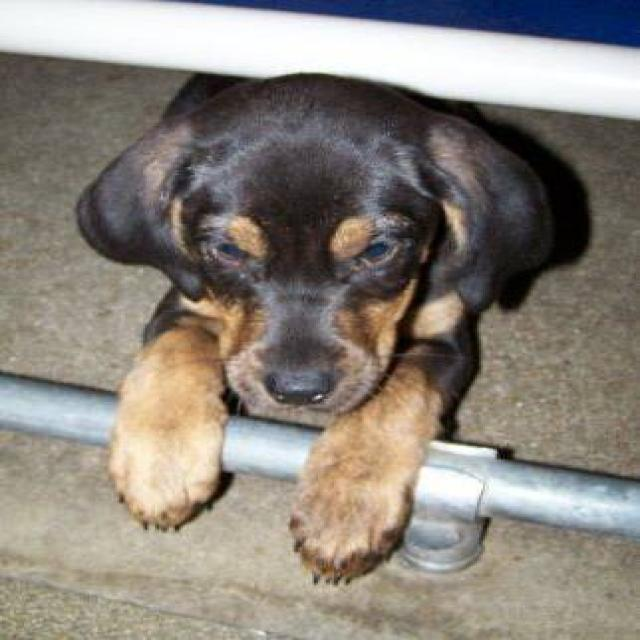dog: (72, 68, 582, 586)
